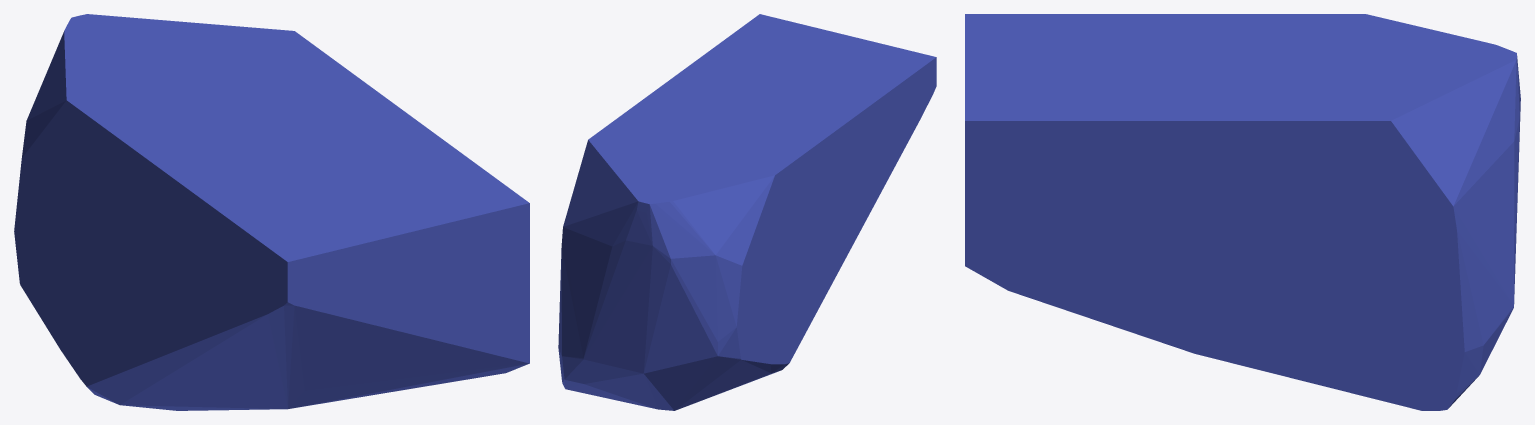
3 views of the same model, side by side, from view 1: azimuth 30°, elevation 25°; view 2: azimuth 150°, elevation 25°; view 3: azimuth 270°, elevation 25° (orthographic). The views are drawn at different scales.
Size of the model in its own units: 0.0106 by 0.0135 by 0.0232.
